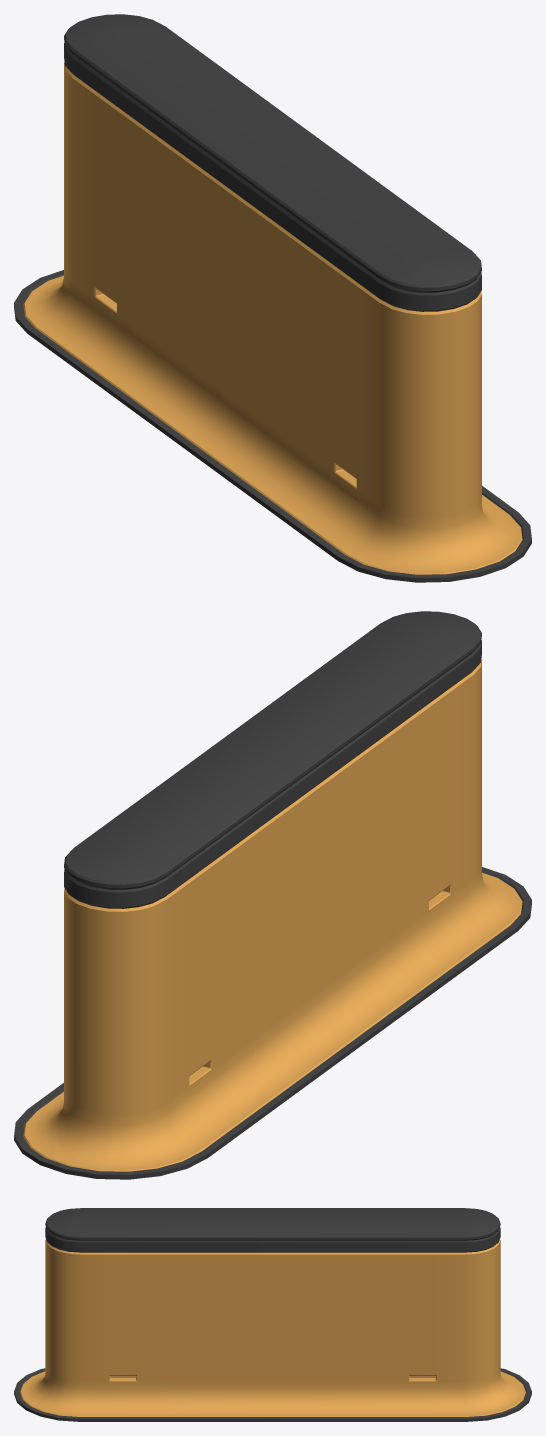
Rendered from bollard-02_01-02.glb.
3 views of the same model, one above another, from view 1: azimuth 30°, elevation 25°; view 2: azimuth 150°, elevation 25°; view 3: azimuth 270°, elevation 25° (orthographic). The views are drawn at different scales.
Visible parts, largest first — view 1: bollar-02; view 2: bollar-02; view 3: bollar-02.
Part boxes in pixels (bbox=[...]): bollar-02: bbox=[14, 14, 531, 582]; bollar-02: bbox=[14, 611, 531, 1179]; bollar-02: bbox=[14, 1208, 531, 1421].
Bounding box in the file's own units: 2.02 × 3 × 8.02.
